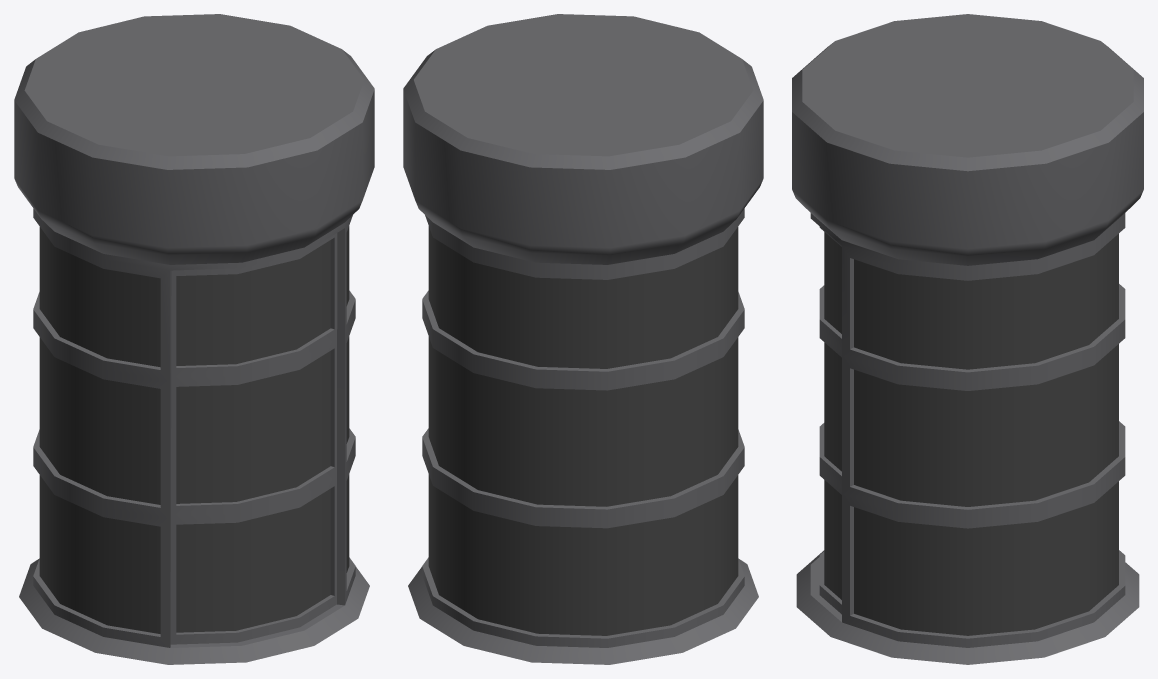
Rendered from TopElevatorTube_01.fbx.
3 renders of one model, left to right at view 1: azimuth 30°, elevation 25°; view 2: azimuth 150°, elevation 25°; view 3: azimuth 270°, elevation 25°, orthographic.
Visible parts, largest first — view 1: Tube, Door; view 2: Tube; view 3: Tube, Door.
Part boxes in pixels (box(x1,y1,x2,y2)): Tube: box(14, 14, 374, 664); Door: box(170, 233, 337, 644); Tube: box(403, 14, 763, 664); Tube: box(792, 14, 1143, 664); Door: box(819, 227, 841, 614).
Bounding box in the file's own units: 873 × 1348 × 851.
